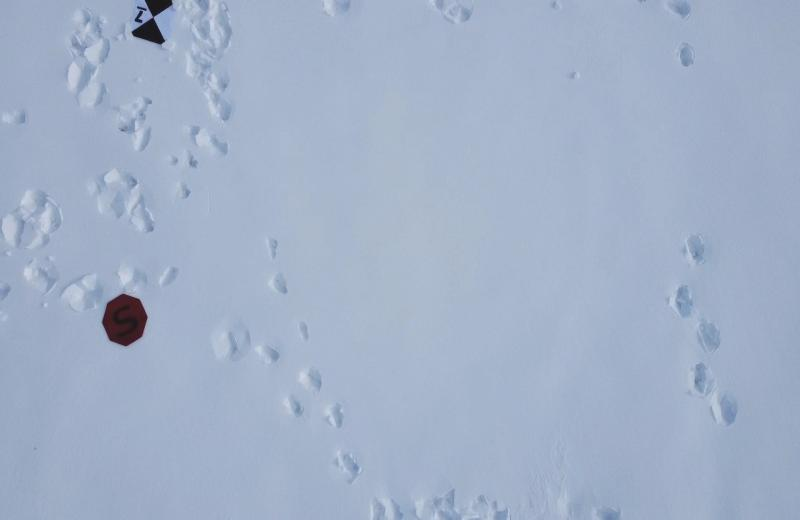Octagon: (102, 293, 148, 347)
